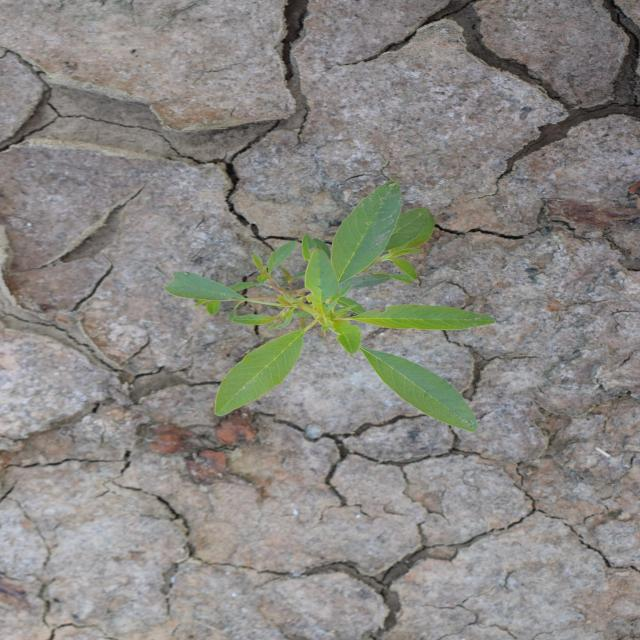Waterhemp: (162, 178, 498, 434)
